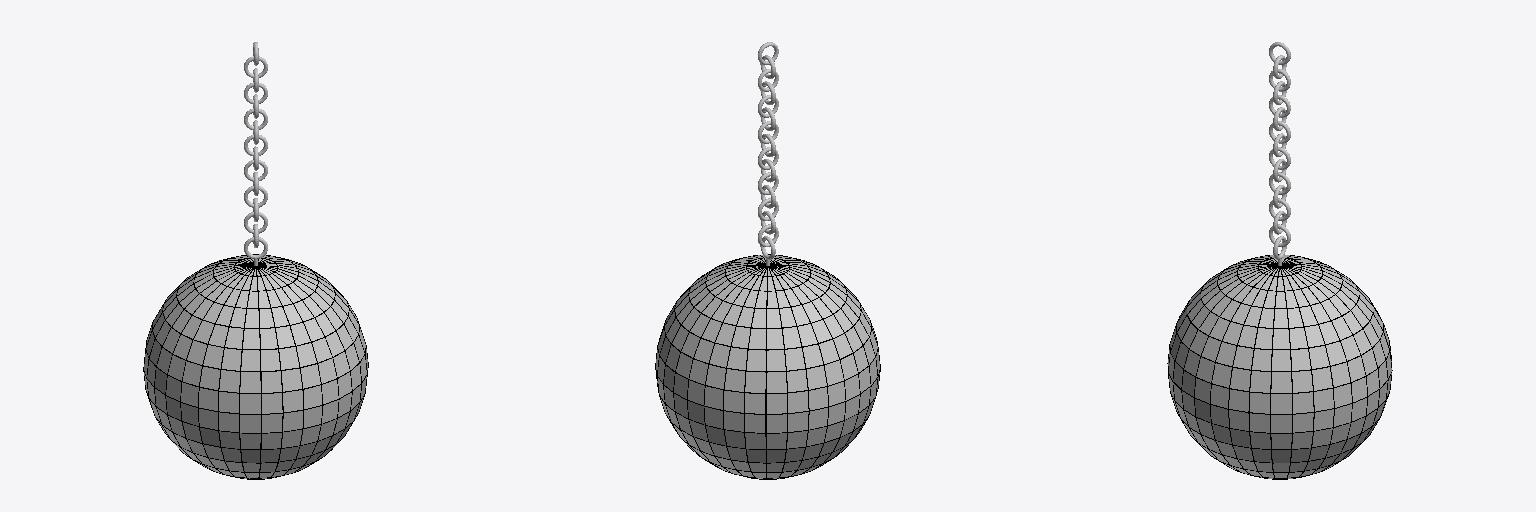
The model's file is Sketchfab_2024_01_09_21_30_56.obj.
3 views of the same model, side by side, from view 1: azimuth 30°, elevation 25°; view 2: azimuth 150°, elevation 25°; view 3: azimuth 270°, elevation 25° (orthographic).
Visible parts, largest first — view 1: Sphere, Torus.017; view 2: Sphere, Torus.017; view 3: Sphere, Torus.017.
Part boxes in pixels (left/top/right/bottom): Sphere: left=143, top=254, right=368, bottom=479; Torus.017: left=244, top=42, right=267, bottom=265; Sphere: left=655, top=254, right=880, bottom=479; Torus.017: left=758, top=42, right=778, bottom=265; Sphere: left=1167, top=254, right=1392, bottom=479; Torus.017: left=1269, top=42, right=1290, bottom=265.
Bounding box in the file's own units: 8.41 × 17.61 × 8.41.